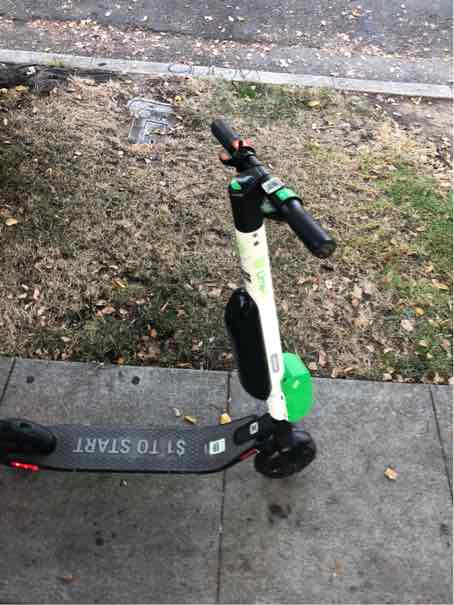scooter: (1, 112, 340, 497)
